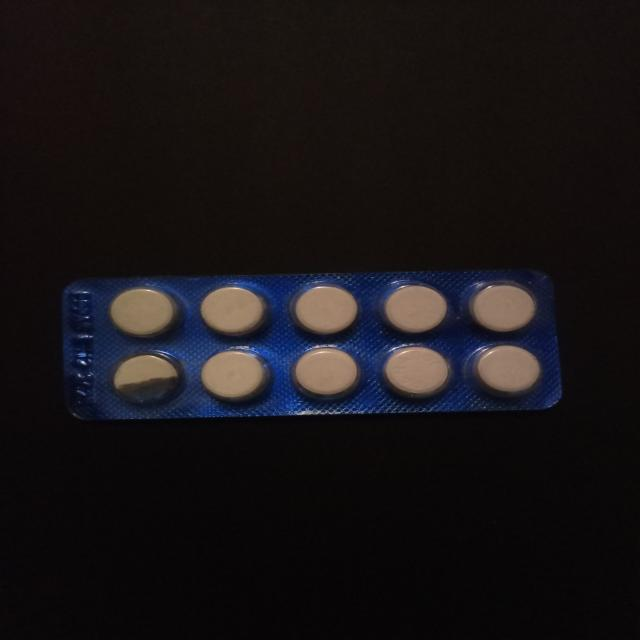defect: (109, 345, 188, 410)
